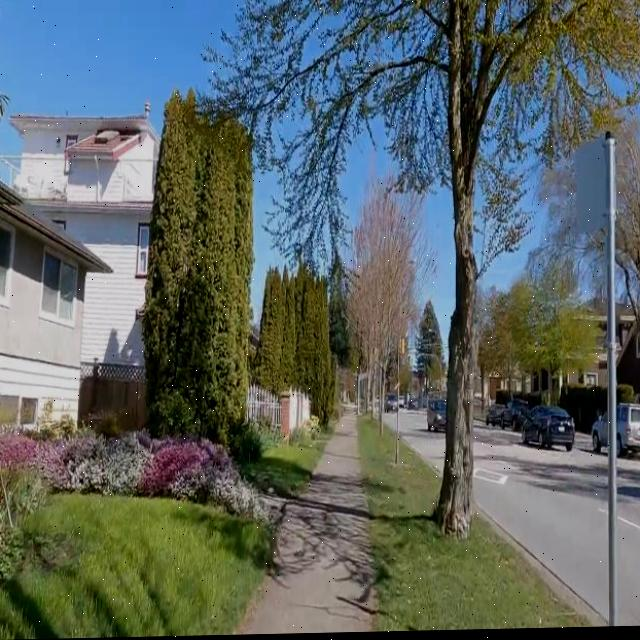Automobile: (523, 408, 574, 452), (617, 407, 640, 458), (500, 402, 529, 433), (427, 400, 446, 433), (592, 419, 608, 456), (486, 405, 503, 427), (385, 395, 398, 414)
Road: (473, 425, 606, 623), (616, 461, 640, 629), (400, 413, 443, 474)
Sidewalk: (243, 414, 375, 636)
